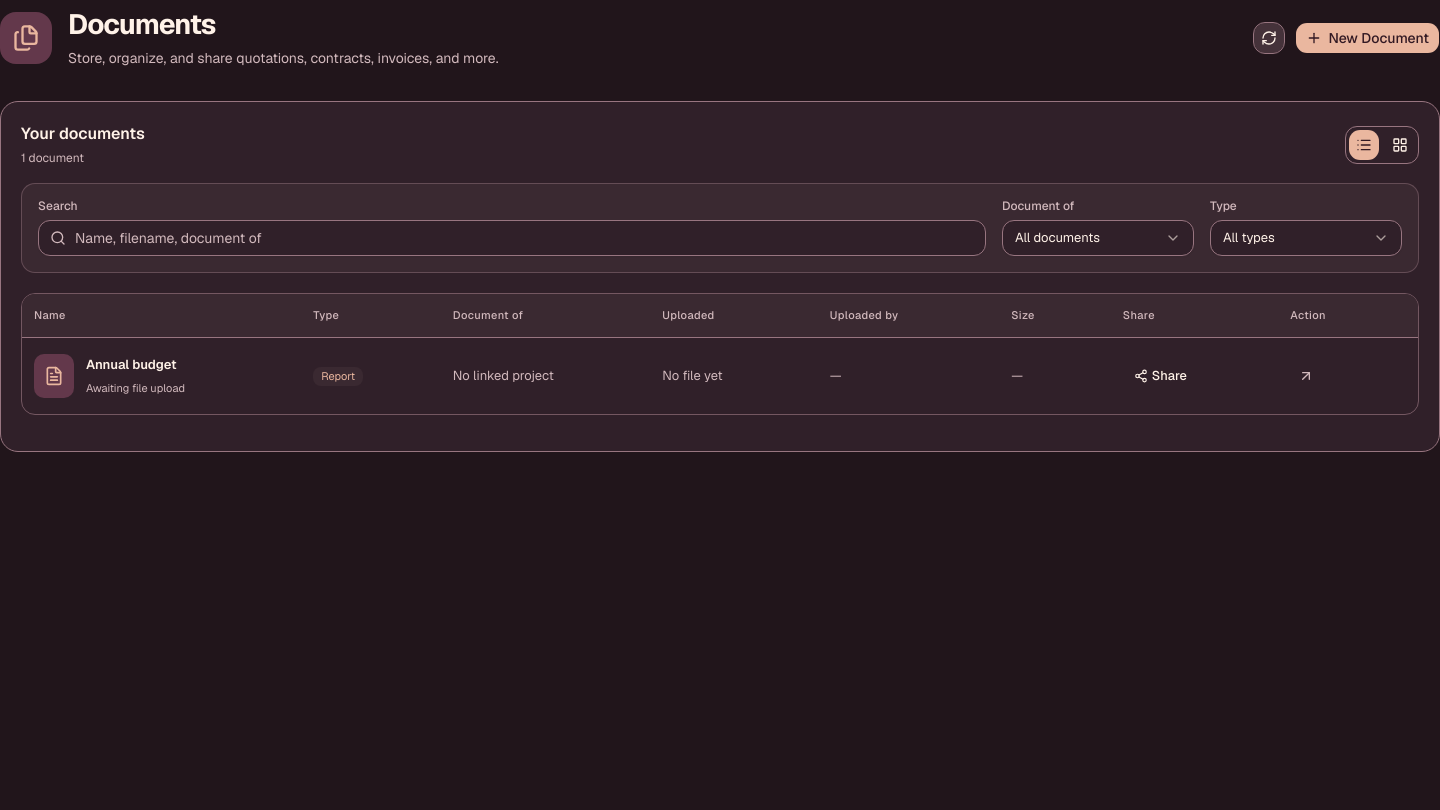
Test: DocumentsManager library controls › switches to cards and keeps document detail actions connected
Expected: the text "1 document" is shown, [21,150,84,166]
Click the button named "Grid layout" at x=1400, y=144, box [1384,128,1416,160]
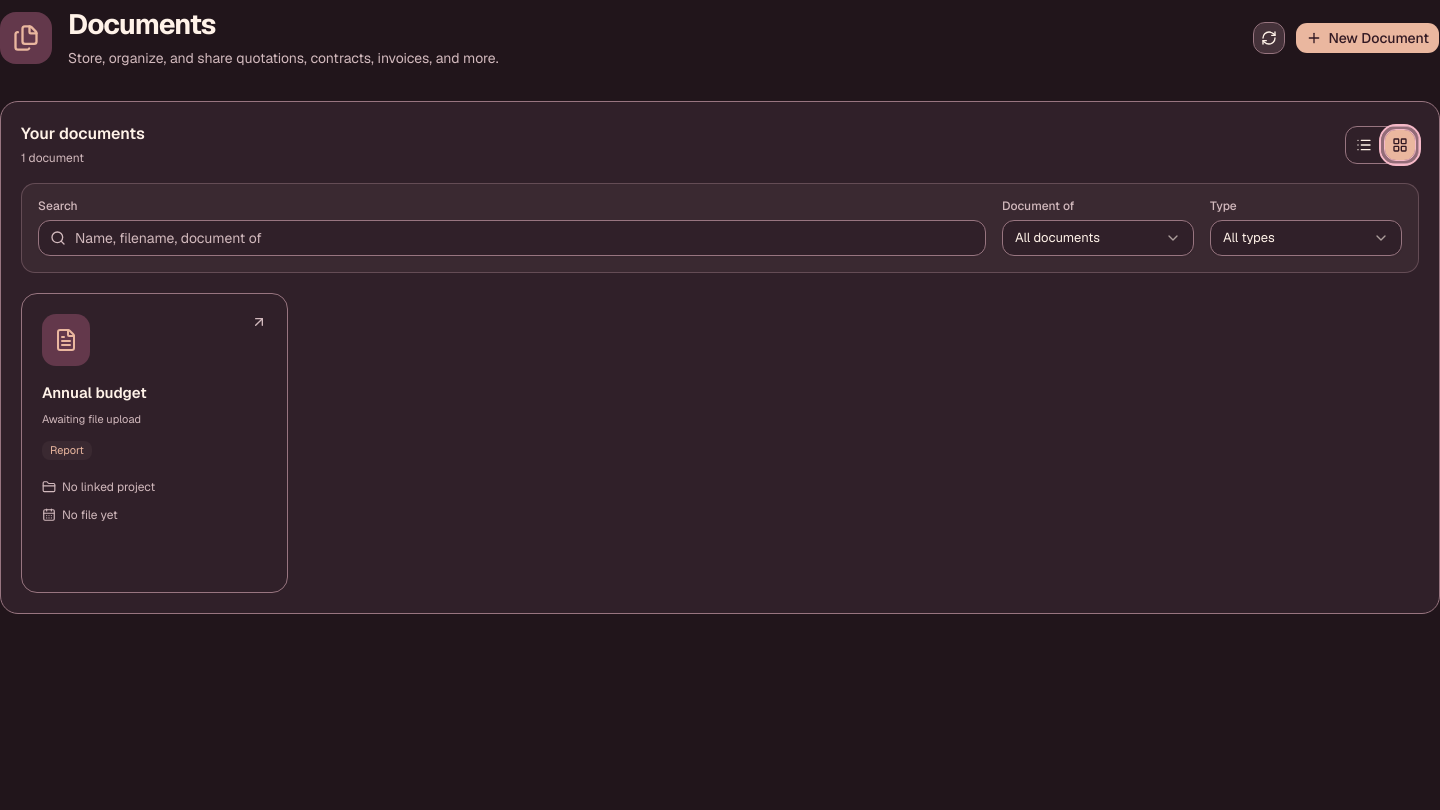
Expected: the table is gone
Click the button "Annual budget" at x=66, y=340, box [22,294,287,592]
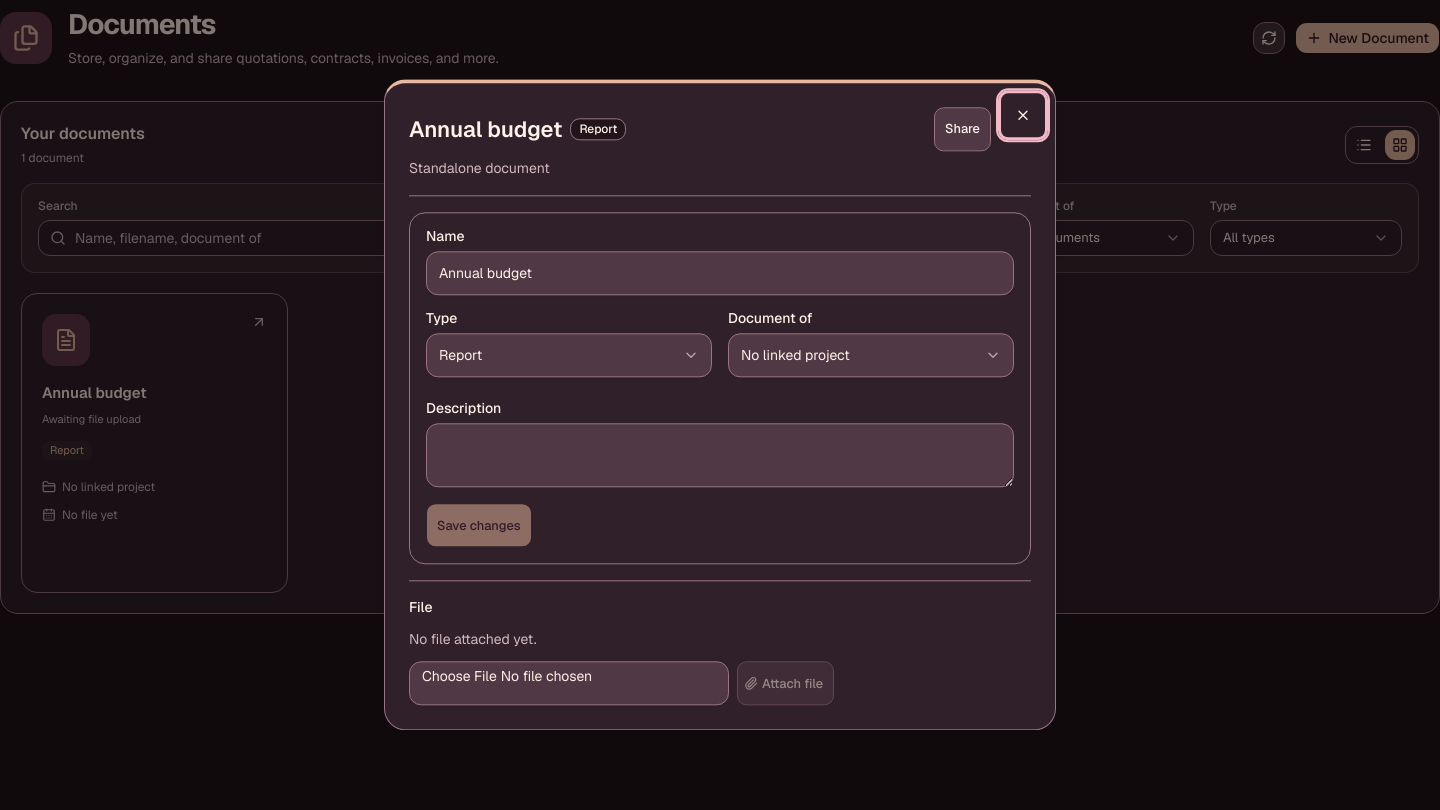
Expected: the heading "Annual budget" is shown, [409,114,562,145]
